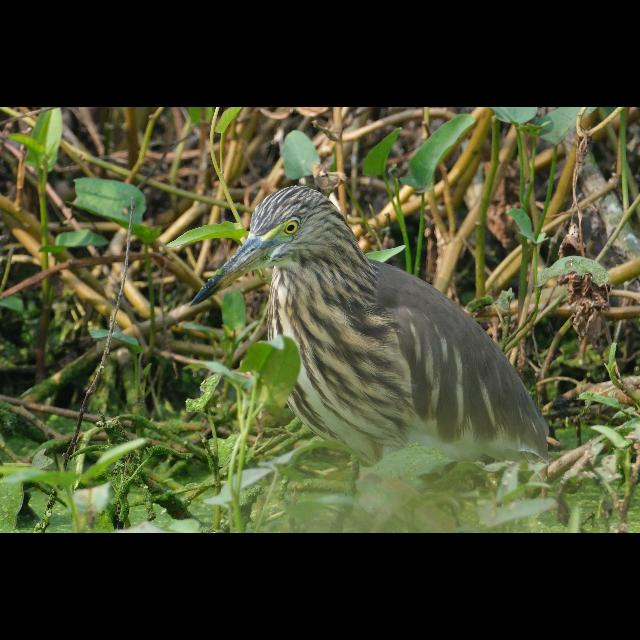heron: (186, 178, 558, 478)
